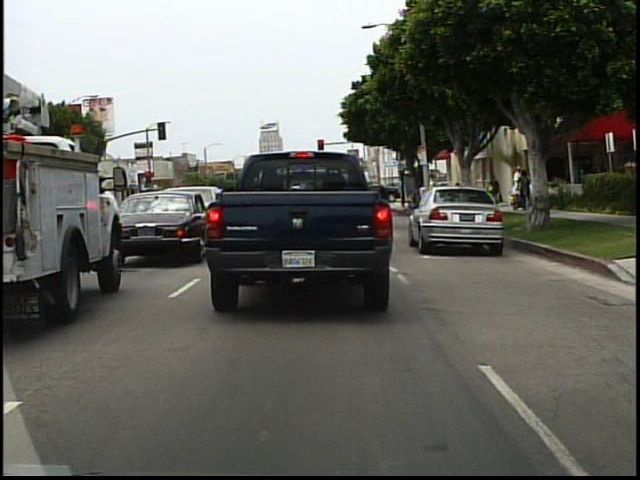person: (488, 174, 502, 196)
